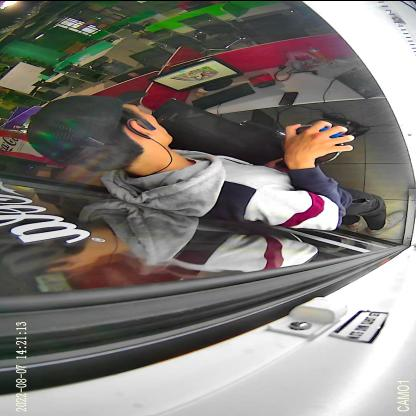blue: (281, 124, 347, 164)
